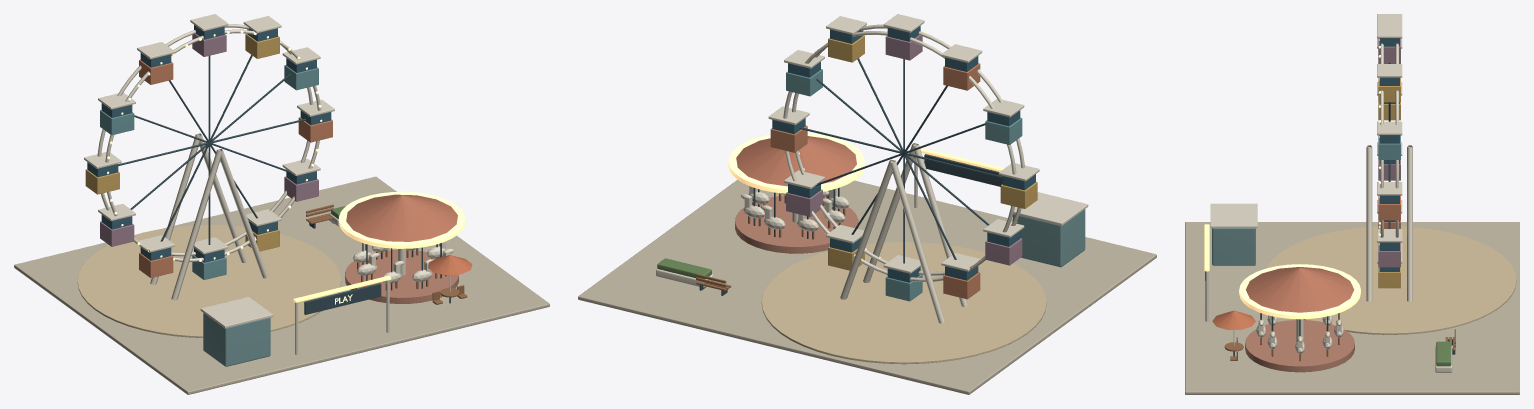
The model's file is amusement.glb.
3 views of the same model, side by side, from view 1: azimuth 30°, elevation 25°; view 2: azimuth 150°, elevation 25°; view 3: azimuth 270°, elevation 25° (orthographic). The views are drawn at different scales.
Parts seen in each view (by area): view 1: amusement_Site_Paving, amusement_Wheel_Plaza, amusement_Carousel_Canopy, amusement_Carousel_Base, amusement_Building_Volume, amusement_Carousel_Fascia, amusement_Roof_Coping, amusement_Wheel_Rim.001, amusement_Sign_Backplate, amusement_Wheel_A_Frame.002, amusement_Wheel_Rim, amusement_Wheel_A_Frame.003 (+16 smaller); view 2: amusement_Site_Paving, amusement_Wheel_Plaza, amusement_Carousel_Canopy, amusement_Carousel_Base, amusement_Building_Volume, amusement_Carousel_Fascia, amusement_Wheel_Rim, amusement_Roof_Coping, amusement_Wheel_A_Frame, amusement_Wheel_Rim.001, amusement_Sign_Backplate, amusement_Wheel_A_Frame.001 (+15 smaller); view 3: amusement_Site_Paving, amusement_Wheel_Plaza, amusement_Carousel_Base, amusement_Carousel_Canopy, amusement_Carousel_Fascia, amusement_Building_Volume, amusement_Roof_Coping, amusement_Wheel_A_Frame.003, amusement_Wheel_A_Frame.001, amusement_Cafe_Umbrella, amusement_Gondola_Body, amusement_Gondola_Body.011 (+12 smaller).
Part boxes in pixels (left/top/right/bottom): amusement_Site_Paving: left=14, top=176, right=549, bottom=394; amusement_Wheel_Plaza: left=77, top=225, right=341, bottom=337; amusement_Carousel_Canopy: left=346, top=194, right=457, bottom=241; amusement_Carousel_Base: left=345, top=249, right=458, bottom=303; amusement_Building_Volume: left=203, top=313, right=270, bottom=366; amusement_Carousel_Fascia: left=339, top=191, right=465, bottom=248; amusement_Roof_Coping: left=200, top=297, right=273, bottom=328; amusement_Wheel_Rim.001: left=105, top=29, right=321, bottom=262; amusement_Sign_Backplate: left=304, top=283, right=381, bottom=314; amusement_Wheel_A_Frame.002: left=171, top=149, right=221, bottom=300; amusement_Wheel_Rim: left=97, top=24, right=313, bottom=256; amusement_Wheel_A_Frame.003: left=218, top=149, right=268, bottom=278; amusement_Site_Paving: left=578, top=179, right=1156, bottom=394; amusement_Wheel_Plaza: left=761, top=242, right=1046, bottom=364; amusement_Carousel_Canopy: left=736, top=136, right=856, bottom=186; amusement_Carousel_Base: left=735, top=195, right=858, bottom=253; amusement_Building_Volume: left=1012, top=209, right=1085, bottom=267; amusement_Carousel_Fascia: left=728, top=132, right=864, bottom=193; amusement_Wheel_Rim: left=783, top=31, right=1016, bottom=281; amusement_Roof_Coping: left=1013, top=192, right=1088, bottom=225; amusement_Wheel_A_Frame: left=890, top=160, right=945, bottom=323; amusement_Wheel_Rim.001: left=792, top=24, right=1024, bottom=275; amusement_Sign_Backplate: left=924, top=154, right=1002, bottom=186; amusement_Wheel_A_Frame.001: left=840, top=159, right=894, bottom=299; amusement_Site_Paving: left=1185, top=222, right=1519, bottom=394; amusement_Wheel_Plaza: left=1266, top=226, right=1516, bottom=334; amusement_Carousel_Base: left=1245, top=320, right=1354, bottom=372; amusement_Carousel_Canopy: left=1246, top=267, right=1354, bottom=312; amusement_Carousel_Fascia: left=1239, top=264, right=1360, bottom=319; amusement_Building_Volume: left=1212, top=228, right=1255, bottom=265; amusement_Roof_Coping: left=1210, top=203, right=1257, bottom=228; amusement_Wheel_A_Frame.003: left=1366, top=147, right=1372, bottom=301; amusement_Wheel_A_Frame.001: left=1407, top=147, right=1412, bottom=301; amusement_Cafe_Umbrella: left=1212, top=310, right=1255, bottom=329; amusement_Gondola_Body: left=1378, top=195, right=1400, bottom=220; amusement_Gondola_Body.011: left=1378, top=242, right=1400, bottom=267.
Bounding box in the file's own units: 23.8 × 16.62 × 19.8.
